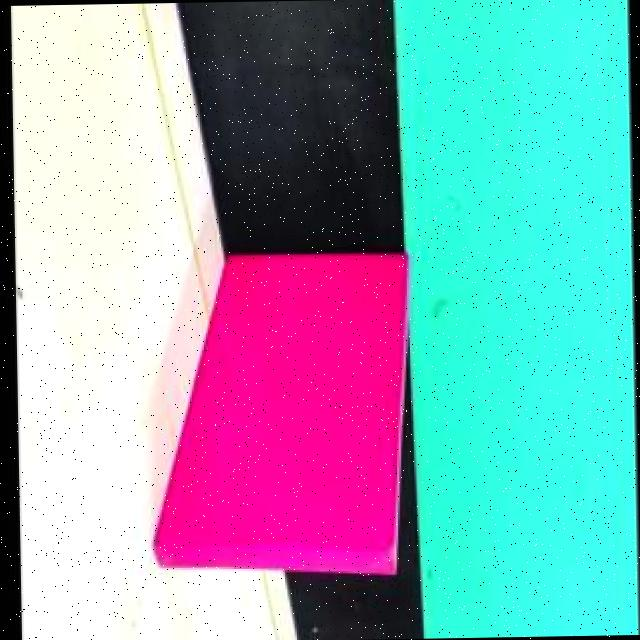xparking: (147, 262, 376, 562)
